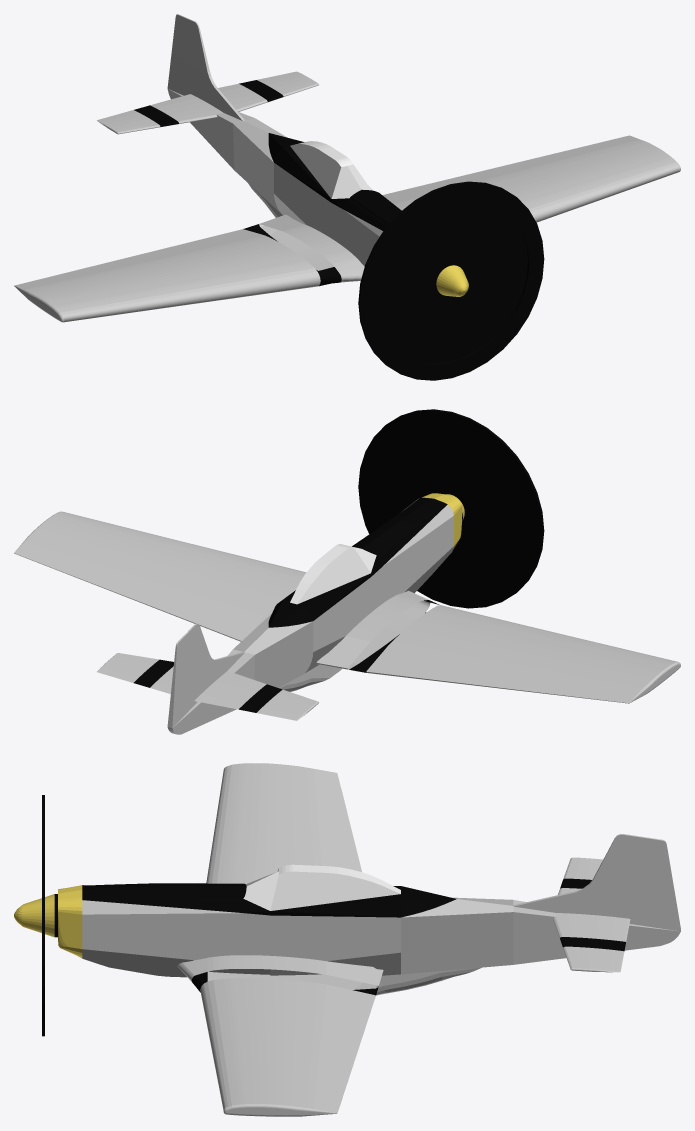
File: mustang.glb
The picture shows the model from 3 angles, top to bottom: view 1: azimuth 30°, elevation 25°; view 2: azimuth 150°, elevation 25°; view 3: azimuth 270°, elevation 25°; orthographic projection. The views are drawn at different scales.
Visible parts, largest first — view 1: body; view 2: body; view 3: body.
Part boxes in pixels (x1=…): body: x1=14, y1=14, x2=680, y2=380; body: x1=14, y1=409, x2=680, y2=734; body: x1=14, y1=763, x2=680, y2=1116.
Size of the model in its own units: 4.03 by 1.2 by 3.32.
